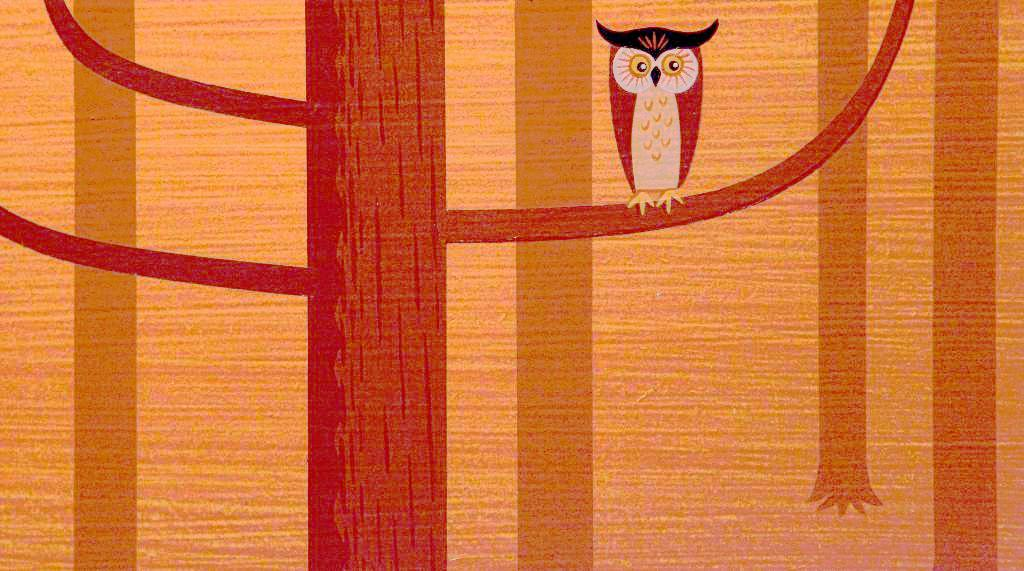Owl: (582, 11, 730, 218)
